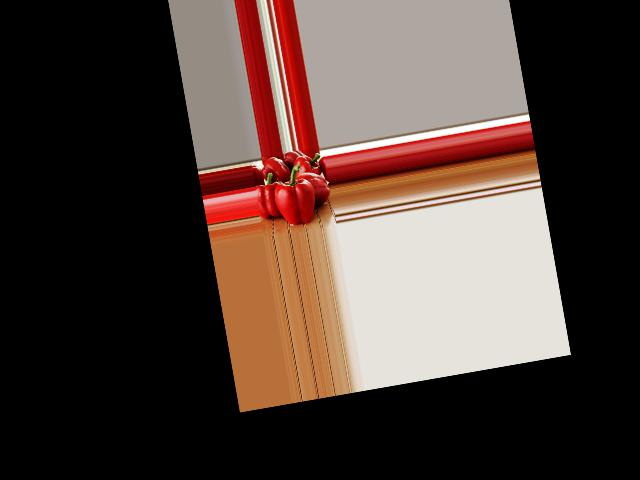bell_pepper: (292, 151, 325, 180)
